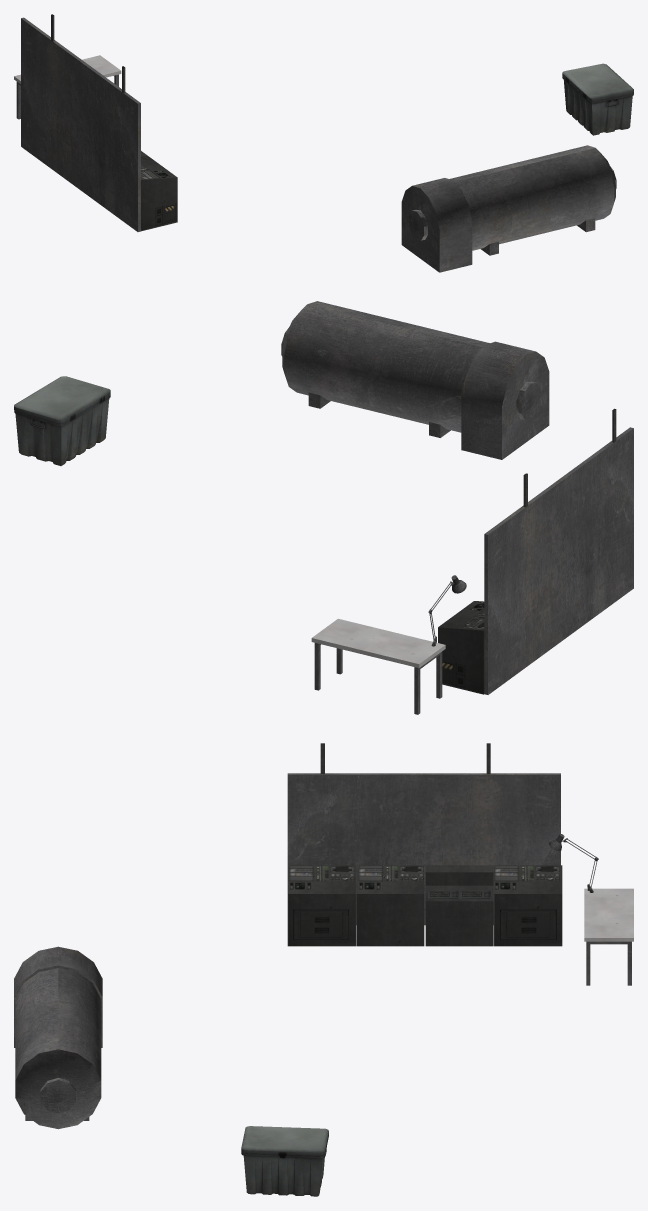
File: OriginalIntercom2.fbx
The picture shows the model from 3 angles, top to bottom: view 1: azimuth 30°, elevation 25°; view 2: azimuth 150°, elevation 25°; view 3: azimuth 270°, elevation 25°; orthographic projection. The views are drawn at different scales.
Parts seen in each view (by area): view 1: Intercom_OriginalProps, Intercom_OriginalProps.001, Intercom_OriginalProps.002; view 2: Intercom_OriginalProps, Intercom_OriginalProps.001, Intercom_OriginalProps.002; view 3: Intercom_OriginalProps, Intercom_OriginalProps.001, Intercom_OriginalProps.002.
Boxes of the visible parts, <box> form: Intercom_OriginalProps: <box>14,14,177,231</box>; Intercom_OriginalProps.001: <box>401,145,616,272</box>; Intercom_OriginalProps.002: <box>562,63,633,135</box>; Intercom_OriginalProps: <box>311,408,633,714</box>; Intercom_OriginalProps.001: <box>281,301,549,459</box>; Intercom_OriginalProps.002: <box>14,376,110,465</box>; Intercom_OriginalProps: <box>287,743,633,985</box>; Intercom_OriginalProps.001: <box>14,946,102,1129</box>; Intercom_OriginalProps.002: <box>241,1126,328,1196</box>.
Size of the model in its own units: 1273 by 388 by 1210.
7 materials, 7 textured.
